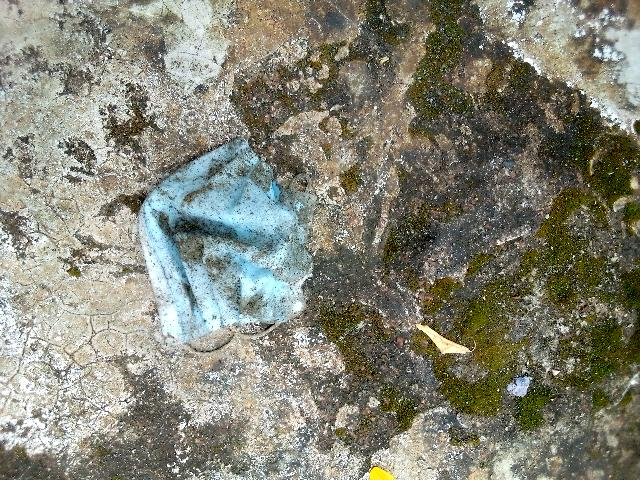mask: (174, 154, 295, 338)
